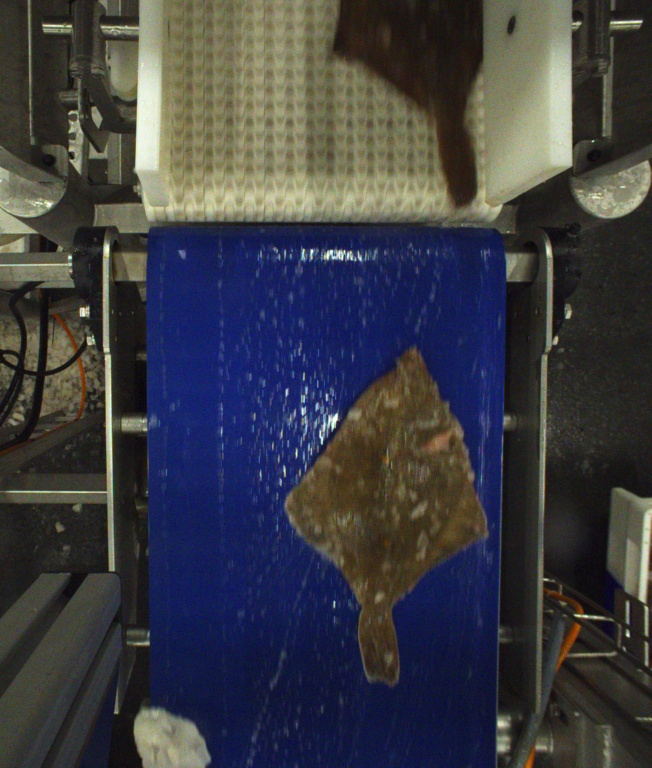PLE: (282, 345, 490, 685)
